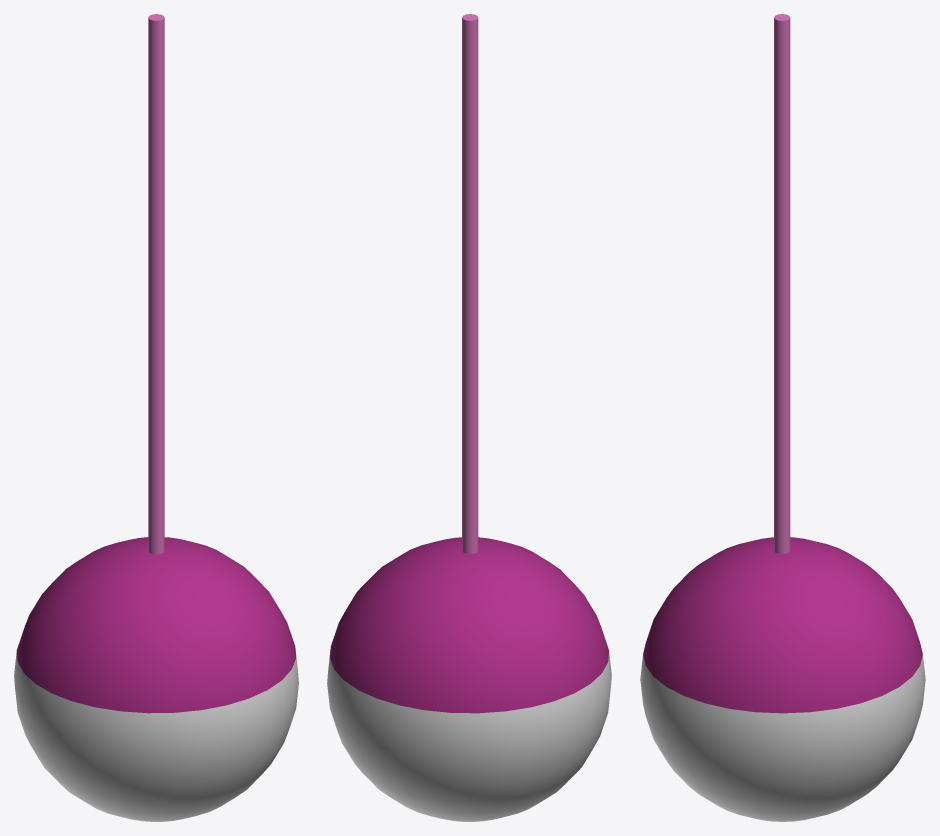
Rendered from JiggleBall.FBX.
3 renders of one model, left to right at view 1: azimuth 30°, elevation 25°; view 2: azimuth 150°, elevation 25°; view 3: azimuth 270°, elevation 25°, orthographic.
Parts seen in each view (by area): view 1: Sphere008, Cylinder074; view 2: Sphere008, Cylinder074; view 3: Sphere008, Cylinder074.
Boxes of the visible parts, <box> form: Sphere008: <box>14,537,298,821</box>; Cylinder074: <box>148,14,164,554</box>; Sphere008: <box>327,537,611,821</box>; Cylinder074: <box>462,14,478,553</box>; Sphere008: <box>640,537,925,821</box>; Cylinder074: <box>774,14,790,553</box>.
Bounding box in the file's own units: 182 × 556 × 182.
1 material, 1 textured.
